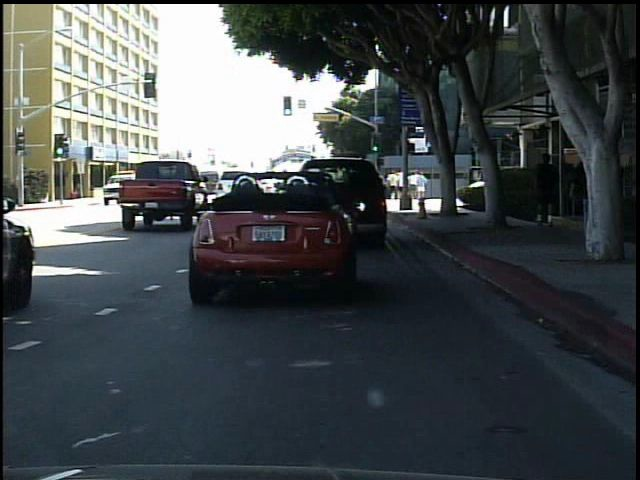person: (573, 138, 616, 257), (528, 149, 563, 230), (145, 173, 163, 201)
